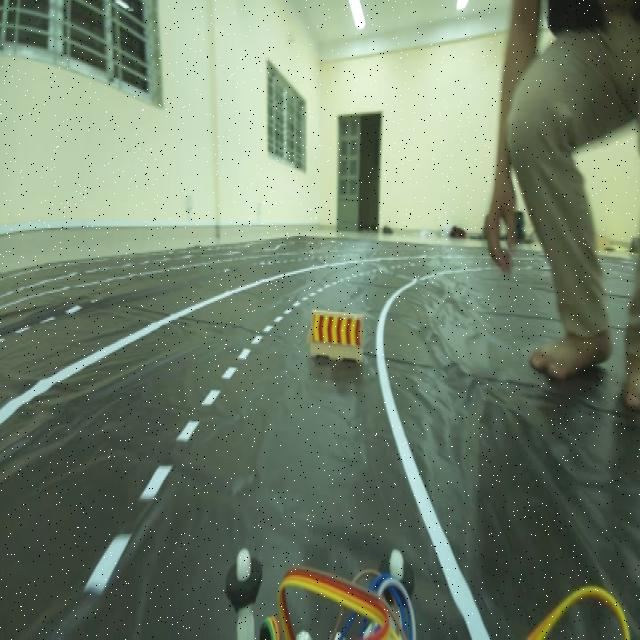roadblock: (303, 297, 372, 359)
